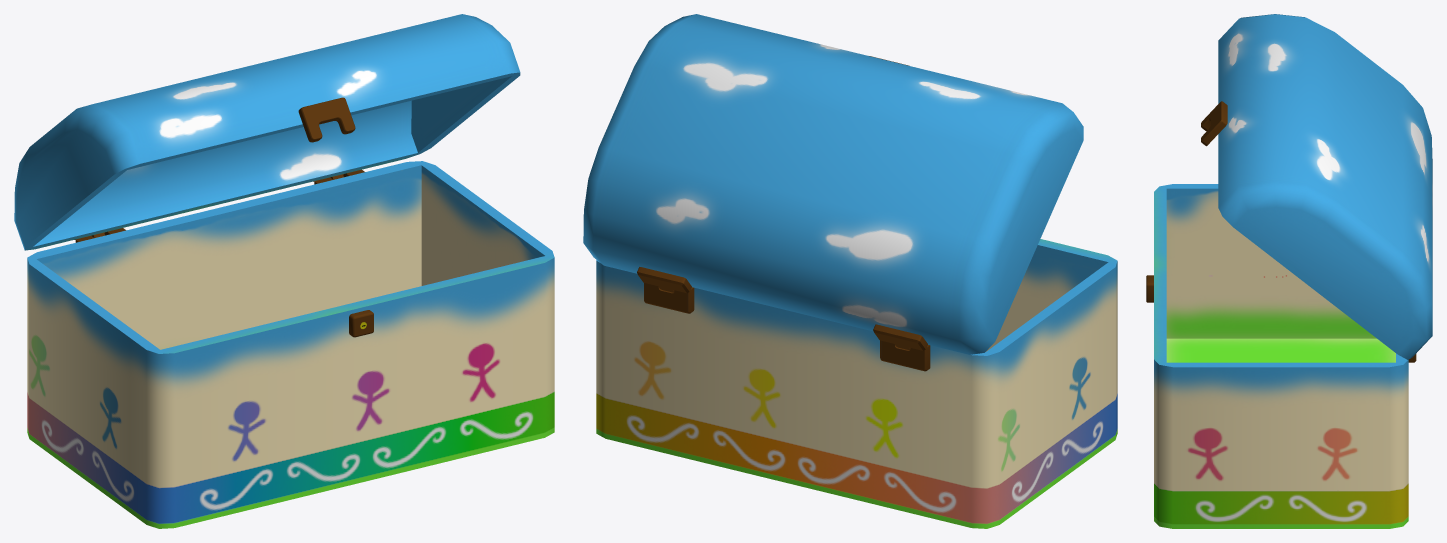
File: Chest.fbx
3 views of the same model, side by side, from view 1: azimuth 30°, elevation 25°; view 2: azimuth 150°, elevation 25°; view 3: azimuth 270°, elevation 25° (orthographic). The views are drawn at different scales.
Parts seen in each view (by area): view 1: Cofre; view 2: Cofre; view 3: Cofre.
Part boxes in pixels (x1,y1,x2,y2): Cofre: (14, 14, 554, 528); Cofre: (583, 14, 1117, 528); Cofre: (1146, 14, 1432, 528).
Size of the model in its own units: 340 by 294 by 225.
Materials: 1 (1 with a texture image).
